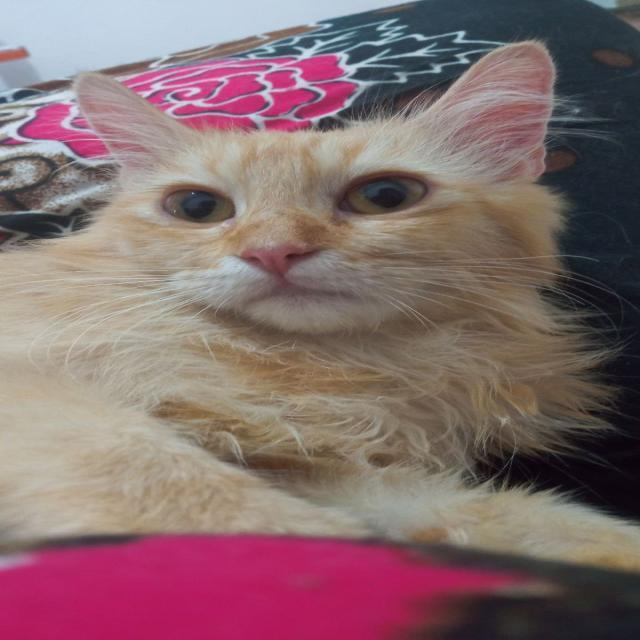da khoe manh: (0, 298, 333, 507)
